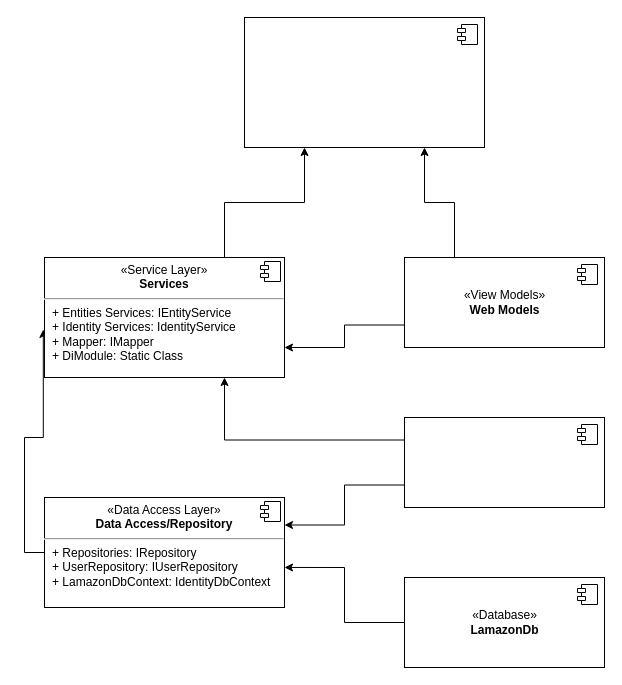
This 622x685 diagram has some shape labels left out. Here are the shapes that lost their labels. From the top down, the centre of each, then its label:
At (364,82): "«Presentation Layer» Web App".
At (504,462): "«Domain Models» Domain".
